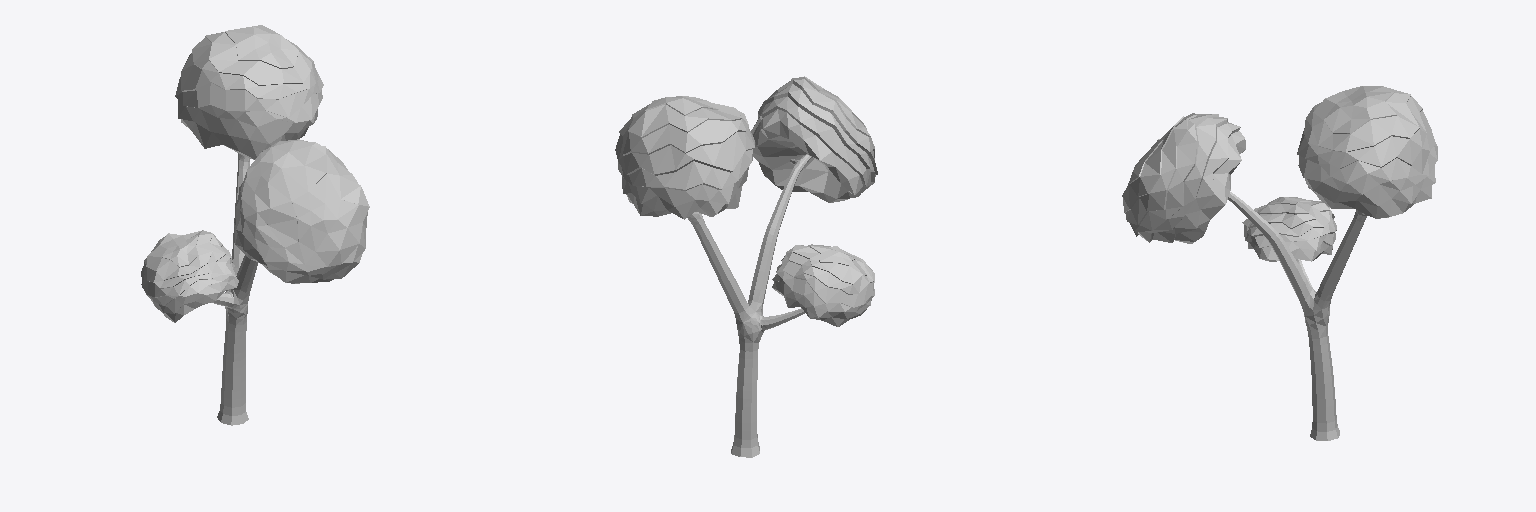
File: LP small Bush tree TREE ST1.obj
3 renders of one model, left to right at view 1: azimuth 30°, elevation 25°; view 2: azimuth 150°, elevation 25°; view 3: azimuth 270°, elevation 25°, orthographic.
Parts seen in each view (by area): view 1: TreeTrunkS_Cube.003; view 2: TreeTrunkS_Cube.003; view 3: TreeTrunkS_Cube.003.
Boxes of the visible parts, box(x1,y1,x2,y2) form: TreeTrunkS_Cube.003: box(141, 25, 369, 425); TreeTrunkS_Cube.003: box(615, 76, 877, 457); TreeTrunkS_Cube.003: box(1122, 86, 1437, 440).
Size of the model in its own units: 3.05 by 5.08 by 4.05.